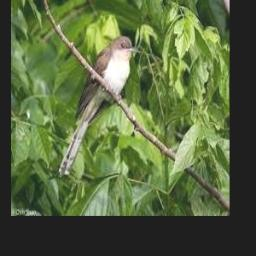Cuckoo: (57, 36, 139, 176)
